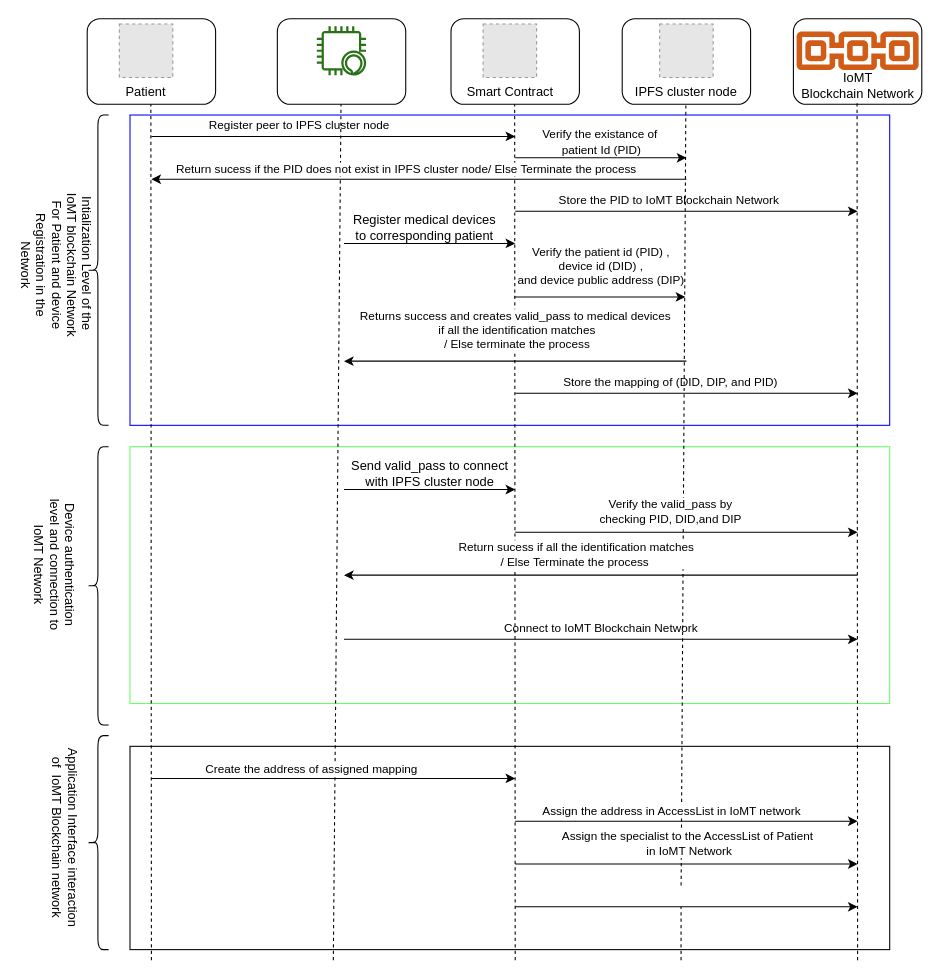
Some shapes in this 950 by 980 pixel diagram are drawn without their labels. Grey dashed boxes stand in for pictures. The centre of each missing label's shape, as x and y in pixels:
"Allow the access permission on the assign addess" goes at (509,847).
"Medical Devices" goes at (341,50).
